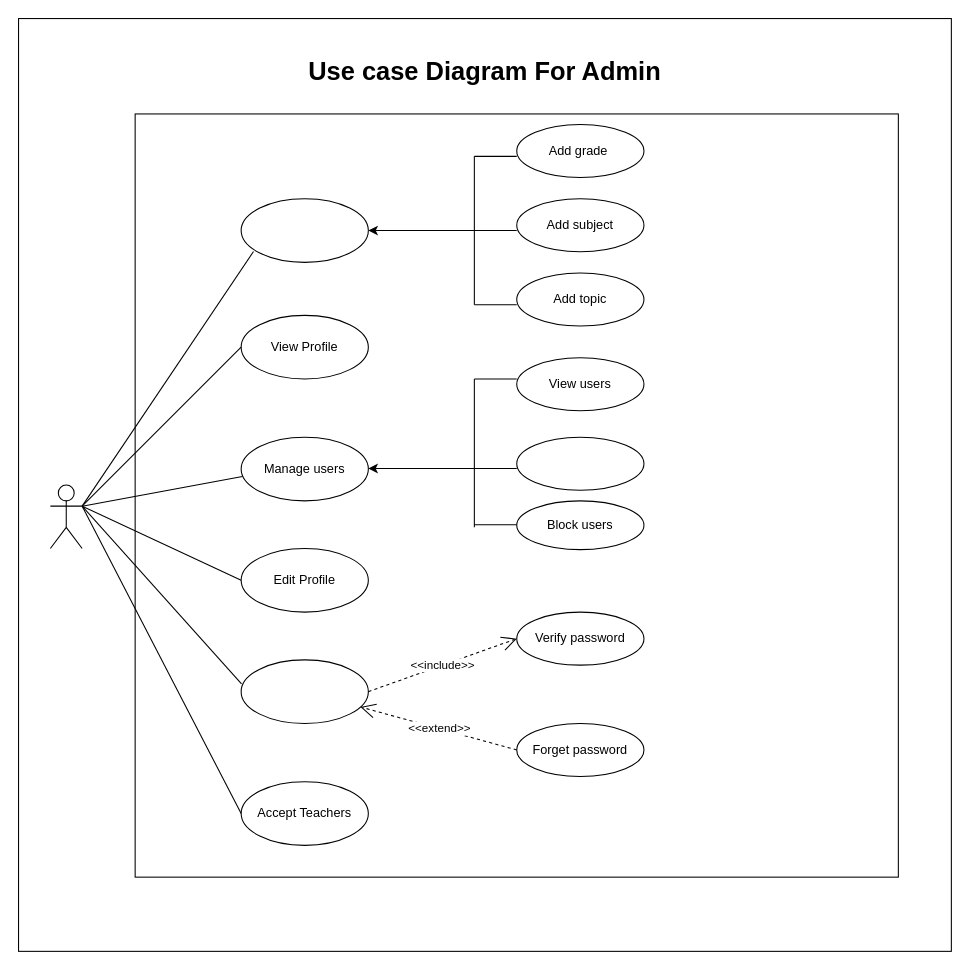
This 970x970 diagram has some shape labels left out. The centre of each missing label's shape, as x and y in pixels:
Admin: [65,516]
Delete users: [580,463]
Log in: [304,691]
Manage content: [304,230]
